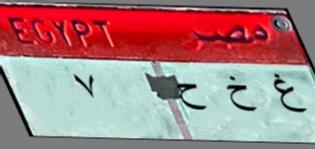7: (71, 68, 99, 106)
7aa: (176, 78, 212, 118)
ghayn: (268, 71, 311, 122)
khaa: (222, 74, 260, 122)
